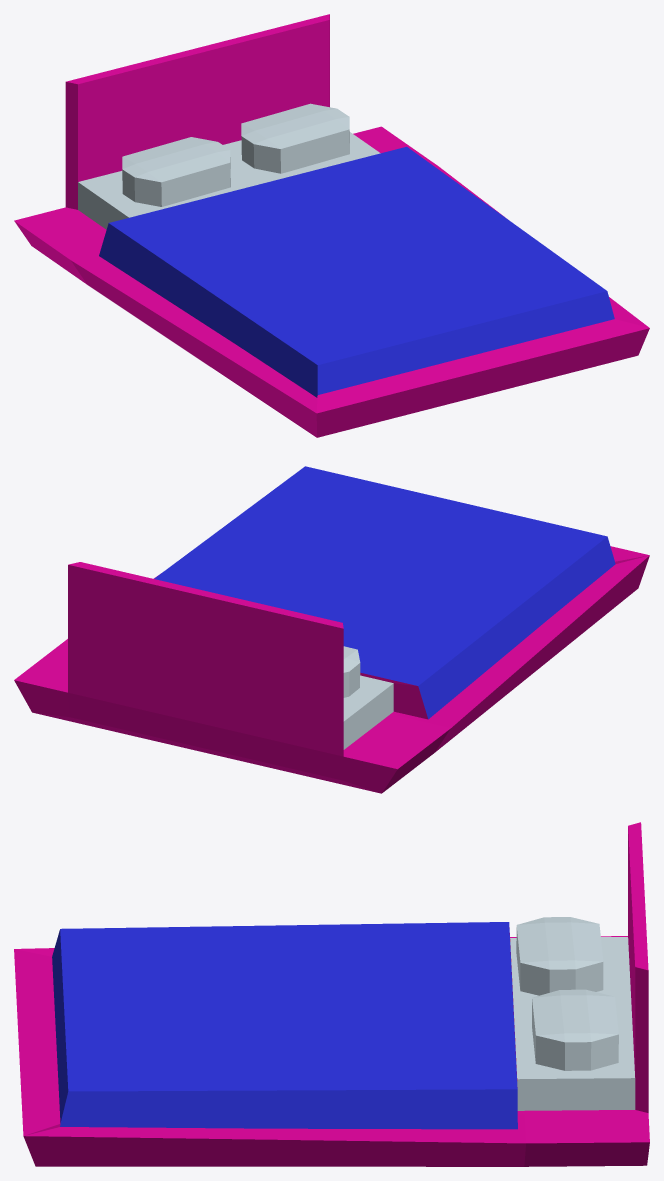
File: cama.fbx
3 renders of one model, top to bottom at view 1: azimuth 30°, elevation 25°; view 2: azimuth 150°, elevation 25°; view 3: azimuth 270°, elevation 25°, orthographic. The views are drawn at different scales.
Visible parts, largest first — view 1: Cube.013; view 2: Cube.013; view 3: Cube.013.
Part boxes in pixels (x1,y1,x2,y2): Cube.013: [14, 14, 649, 437]; Cube.013: [14, 466, 649, 793]; Cube.013: [14, 822, 649, 1166].
Bounding box in the file's own units: 3229 × 1273 × 4182.
